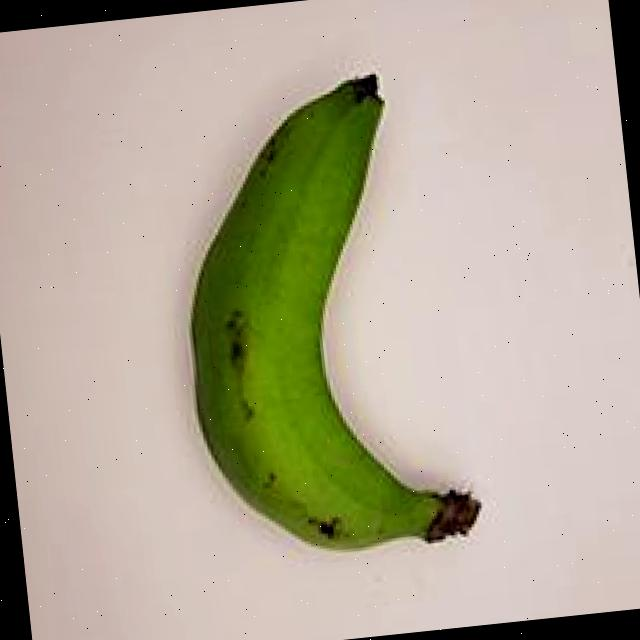Raw: (132, 48, 519, 605)
